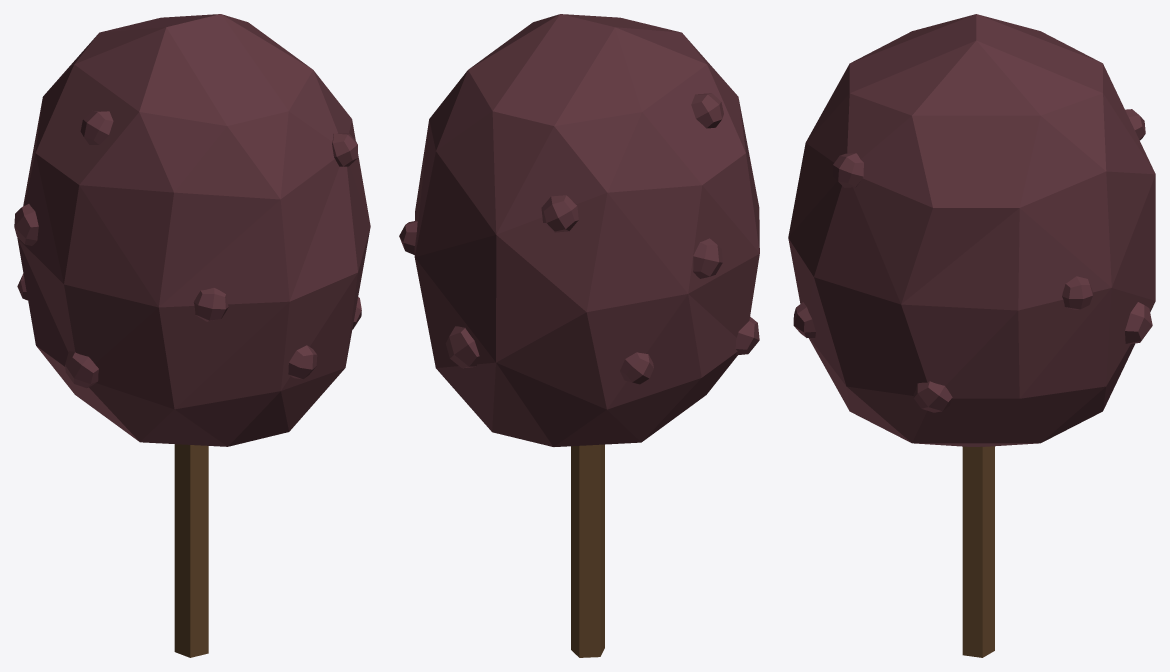
The model's file is tree-round-apple.fbx.
The picture shows the model from 3 angles, left to right: view 1: azimuth 30°, elevation 25°; view 2: azimuth 150°, elevation 25°; view 3: azimuth 270°, elevation 25°; orthographic projection.
Parts seen in each view (by area): view 1: tree-round-apple; view 2: tree-round-apple; view 3: tree-round-apple.
Part boxes in pixels (box(x1,y1,x2,y2)): tree-round-apple: box(14, 14, 370, 657); tree-round-apple: box(399, 14, 759, 657); tree-round-apple: box(788, 14, 1155, 657).
Bounding box in the file's own units: 2.58 × 5.06 × 2.7.
